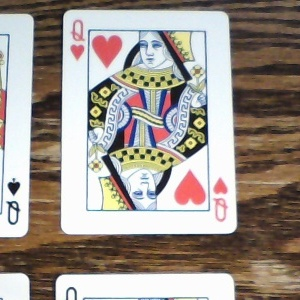card: (60, 9, 239, 234)
